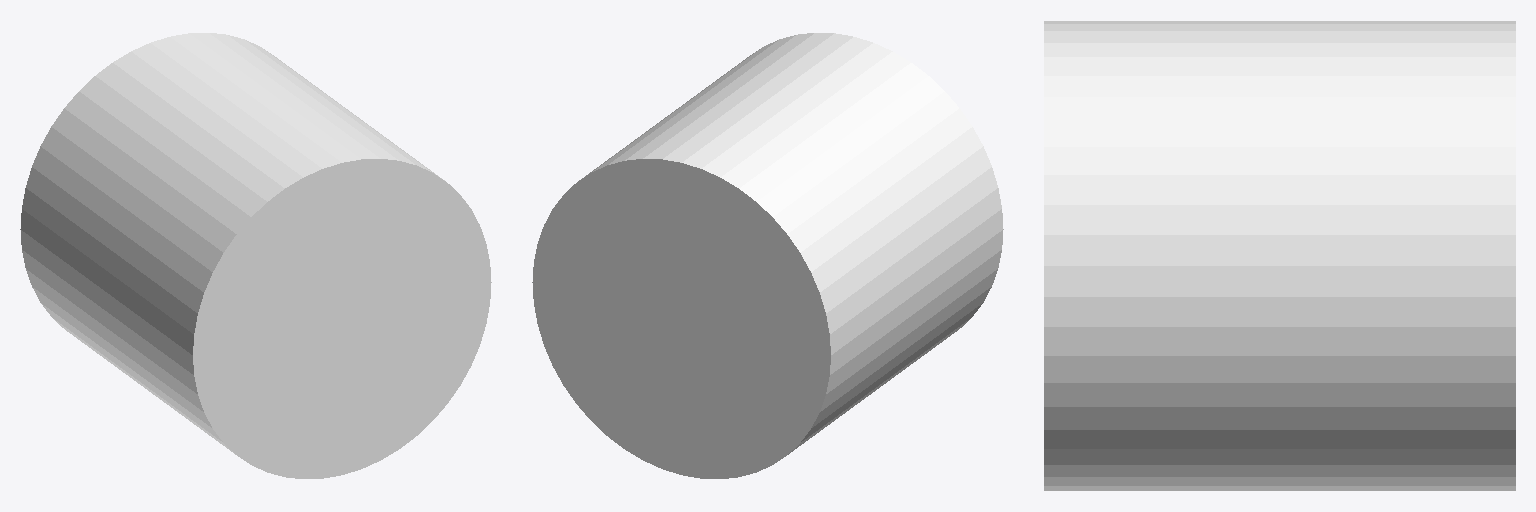
robot.urdf — ma:
<?xml version="1.0" encoding="utf-8"?>
<!-- This URDF was automatically created by SolidWorks to URDF Exporter! Originally created by [author] ([email redacted]) 
     Commit Version: 1.5.1-0-g916b5db  Build Version: 1.5.7152.31018
     For more information, please see http://wiki.ros.org/sw_urdf_exporter -->
<robot
  name="ma">
  <link
    name="ma">
    <inertial>
      <origin
        xyz="0 0 0"
        rpy="0 0 0" />
      <mass
        value="5E-05" />
      <inertia
        ixx="2.0754E-07"
        ixy="0"
        ixz="0"
        iyy="4.1508E-07"
        iyz="-1.27077401336148E-23"
        izz="2.0754E-07" />
    </inertial>
    <visual>
      <origin
        xyz="0 0 0"
        rpy="1.5707963267949 0 0" />
      <geometry>
        <mesh
          filename="package://ma/meshes/ma.STL" />
      </geometry>
      <material
        name="">
        <color
          rgba="1.0 1.0 1.0 1.0" />
        <texture
          filename="package://ma/textures/" />
      </material>
    </visual>
    <collision>
      <origin
        xyz="0 0 0"
        rpy="1.5707963267949 0 0" />
      <geometry>
        <mesh
          filename="package://ma/meshes/ma.STL" />
      </geometry>
    </collision>
  </link>
</robot>

--- What the picture shows (computed from the rendered views, not written in the file) ---
3 views of the same robot in one strip: view 1: azimuth 30°, elevation 25°; view 2: azimuth 150°, elevation 25°; view 3: azimuth 270°, elevation 25° (orthographic).
Model ma with 1 links and 0 joints (none), rooted at ma, posed all joints at 0.
Links seen in each view (by area): view 1: ma; view 2: ma; view 3: ma.
Link boxes in pixels (x1,y1,x2,y2): ma: (20,33,491,478); ma: (532,33,1003,478); ma: (1044,21,1515,490).
Size in the robot's own frame: 0.0318 by 0.0318 by 0.0318 metres.
Meshes: 1 distinct files referenced, 1 mesh visuals loaded (1 binary STL).
